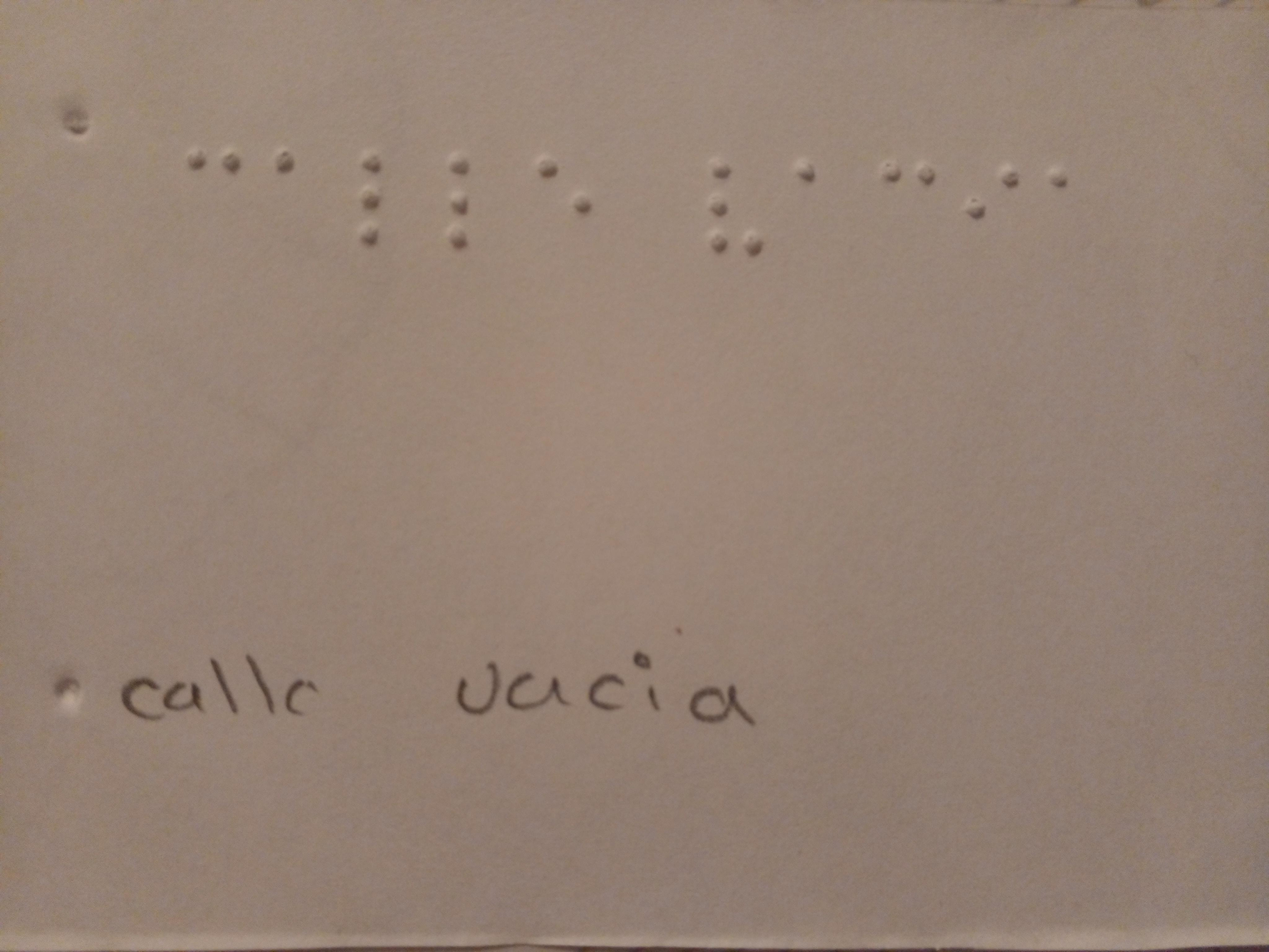a: (1033, 136, 1084, 228), (256, 121, 311, 194), (773, 147, 832, 205)
c: (175, 118, 248, 205), (866, 136, 950, 203)
e: (520, 139, 601, 249)
i: (959, 146, 1036, 229)
l: (347, 136, 401, 268), (429, 139, 486, 263)
v: (692, 146, 778, 274)
